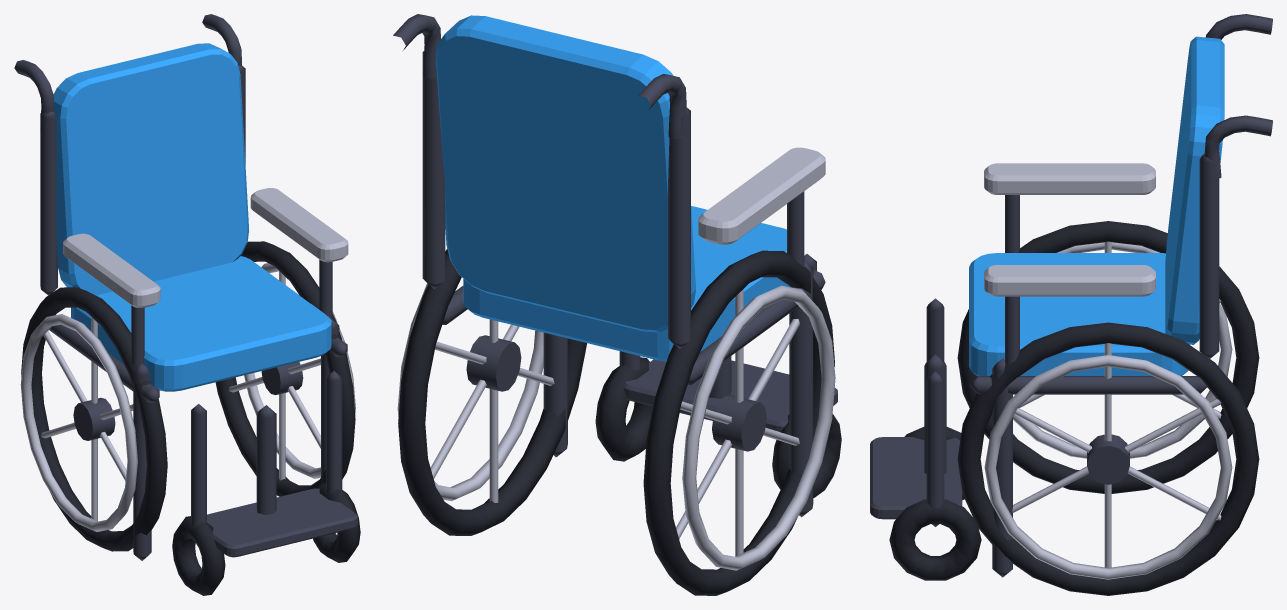
File: wheelchair.glb
The picture shows the model from 3 angles, left to right: view 1: azimuth 30°, elevation 25°; view 2: azimuth 150°, elevation 25°; view 3: azimuth 270°, elevation 25°; orthographic projection. The views are drawn at different scales.
Parts seen in each view (by area): view 1: chair_back, chair_seat, chair_tyre_0, chair_footplate, chair_tyre_1, chair_handrim_0, chair_arm_1, chair_arm_0, chair_back_post_0, chair_caster_0, chair_footpost, chair_fork_1 (+16 smaller); view 2: chair_back, chair_tyre_0, chair_tyre_1, chair_seat, chair_handrim_0, chair_arm_0, chair_back_post_0, chair_back_post_1, chair_frame_0, chair_footplate, chair_caster_1, chair_handrim_1 (+15 smaller); view 3: chair_tyre_1, chair_seat, chair_tyre_0, chair_back, chair_handrim_1, chair_arm_0, chair_arm_1, chair_footplate, chair_caster_1, chair_back_post_1, chair_handrim_0, chair_seat_rail_1 (+12 smaller).
Boxes of the visible parts, x1=… form: chair_back: x1=53, y1=43, x2=248, y2=295; chair_seat: x1=71, y1=256, x2=331, y2=391; chair_tyre_0: x1=21, y1=287, x2=167, y2=551; chair_footplate: x1=207, y1=488, x2=357, y2=557; chair_tyre_1: x1=215, y1=241, x2=355, y2=496; chair_handrim_0: x1=20, y1=314, x2=137, y2=531; chair_arm_1: x1=250, y1=188, x2=348, y2=262; chair_arm_0: x1=63, y1=233, x2=160, y2=307; chair_back_post_0: x1=40, y1=111, x2=57, y2=295; chair_caster_0: x1=172, y1=516, x2=225, y2=595; chair_footpost: x1=256, y1=405, x2=276, y2=514; chair_fork_1: x1=326, y1=371, x2=342, y2=492; chair_back: x1=435, y1=15, x2=695, y2=332; chair_tyre_0: x1=643, y1=250, x2=834, y2=595; chair_tyre_1: x1=398, y1=249, x2=586, y2=535; chair_seat: x1=463, y1=206, x2=789, y2=361; chair_handrim_0: x1=682, y1=285, x2=835, y2=570; chair_arm_0: x1=698, y1=147, x2=825, y2=244; chair_back_post_0: x1=668, y1=107, x2=690, y2=348; chair_back_post_1: x1=422, y1=51, x2=445, y2=288; chair_frame_0: x1=789, y1=261, x2=813, y2=517; chair_footplate: x1=623, y1=359, x2=837, y2=431; chair_caster_1: x1=595, y1=357, x2=653, y2=461; chair_handrim_1: x1=397, y1=283, x2=543, y2=501; chair_tyre_1: x1=957, y1=322, x2=1259, y2=595; chair_seat: x1=969, y1=253, x2=1188, y2=375; chair_tyre_0: x1=957, y1=221, x2=1259, y2=493; chair_back: x1=1165, y1=36, x2=1224, y2=344; chair_handrim_1: x1=984, y1=355, x2=1232, y2=579; chair_arm_0: x1=984, y1=163, x2=1155, y2=194; chair_arm_1: x1=984, y1=265, x2=1155, y2=296; chair_footplate: x1=870, y1=437, x2=962, y2=519; chair_caster_1: x1=889, y1=499, x2=981, y2=580; chair_back_post_1: x1=1199, y1=154, x2=1219, y2=358; chair_handrim_0: x1=1013, y1=242, x2=1232, y2=458; chair_seat_rail_1: x1=969, y1=376, x2=1207, y2=394.
Size of the model in its own units: 0.6047 by 1.1 by 0.8381.
